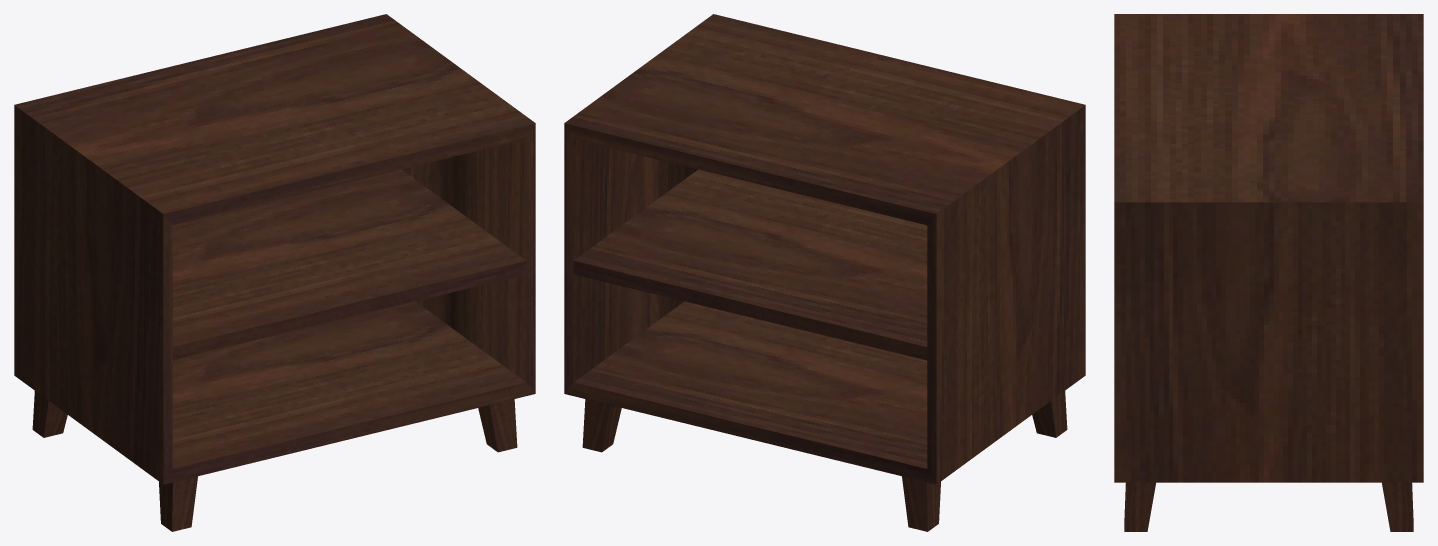
The model's file is psx_cabinet.glb.
3 renders of one model, left to right at view 1: azimuth 30°, elevation 25°; view 2: azimuth 150°, elevation 25°; view 3: azimuth 270°, elevation 25°, orthographic. The views are drawn at different scales.
Visible parts, largest first — view 1: Cabinet; view 2: Cabinet; view 3: Cabinet.
Boxes of the visible parts, x1=… form: Cabinet: x1=14, y1=14, x2=535, y2=531; Cabinet: x1=564, y1=14, x2=1085, y2=531; Cabinet: x1=1114, y1=14, x2=1423, y2=531.
Bounding box in the file's own units: 0.72 × 0.6 × 0.5.
1 material, 1 textured.
